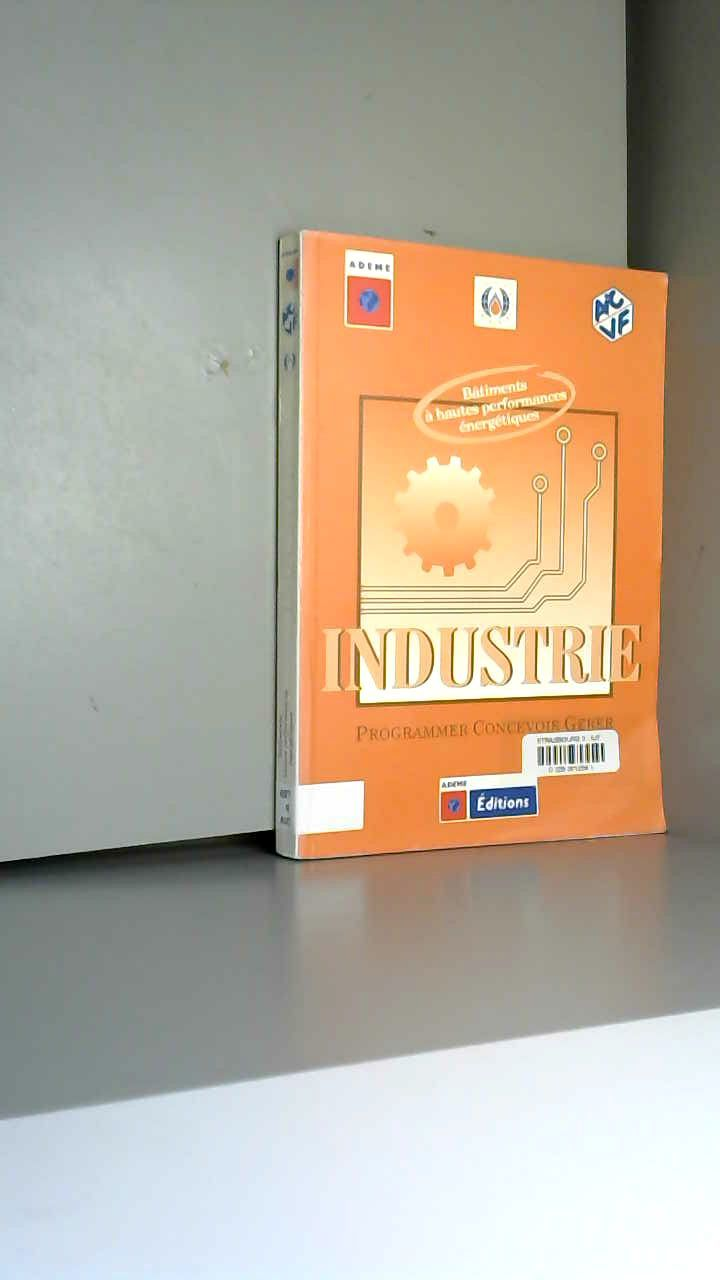book: (240, 200, 718, 878)
